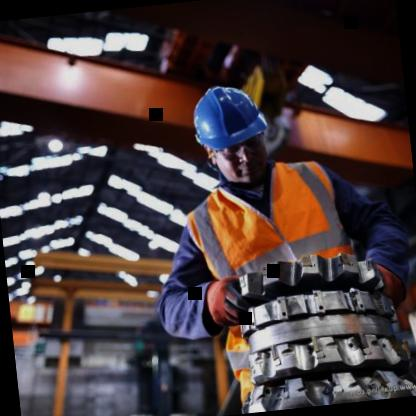helmet: (184, 72, 281, 193)
